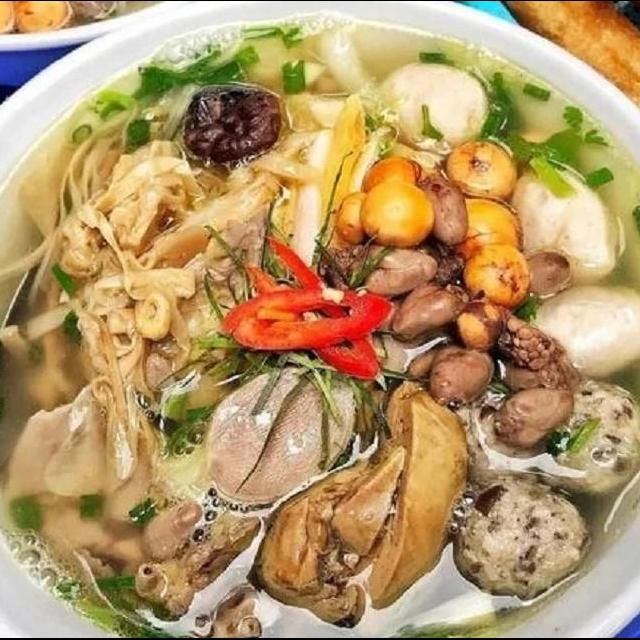vien moc: (468, 367, 640, 503), (444, 474, 598, 600)
